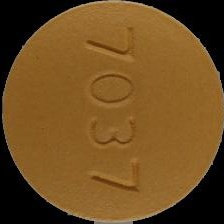0093-7037: (0, 0, 224, 224)
